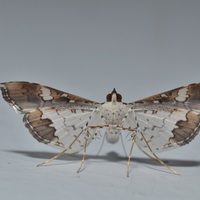insect: (0, 81, 199, 176)
